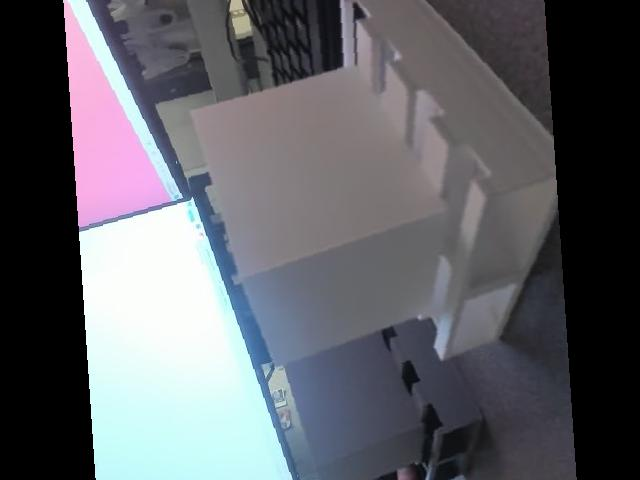grey pallet: (155, 0, 578, 364)
